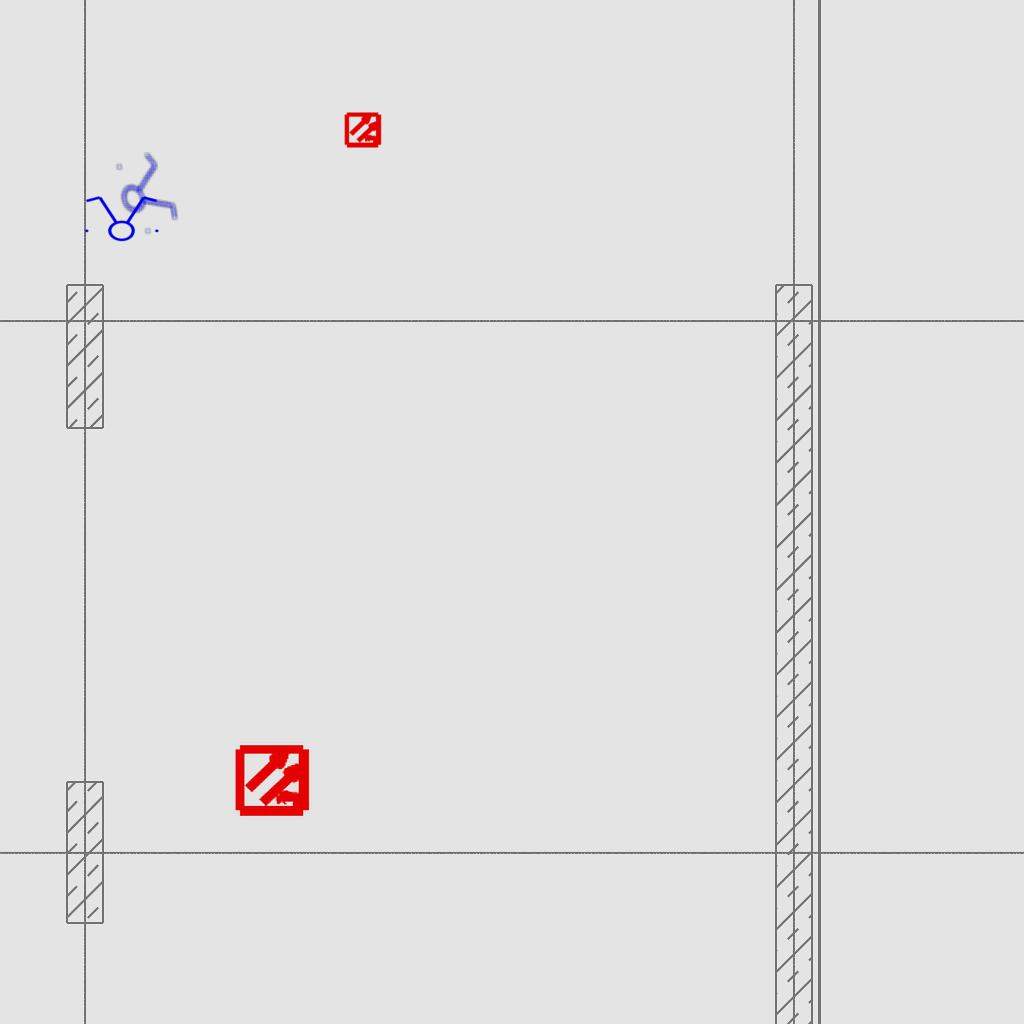OT_Multisensormelder_(Kombination_RMO_WMD): (218, 724, 331, 837), (336, 102, 392, 158)
Serienschalter: (105, 144, 185, 242), (79, 194, 163, 242)
